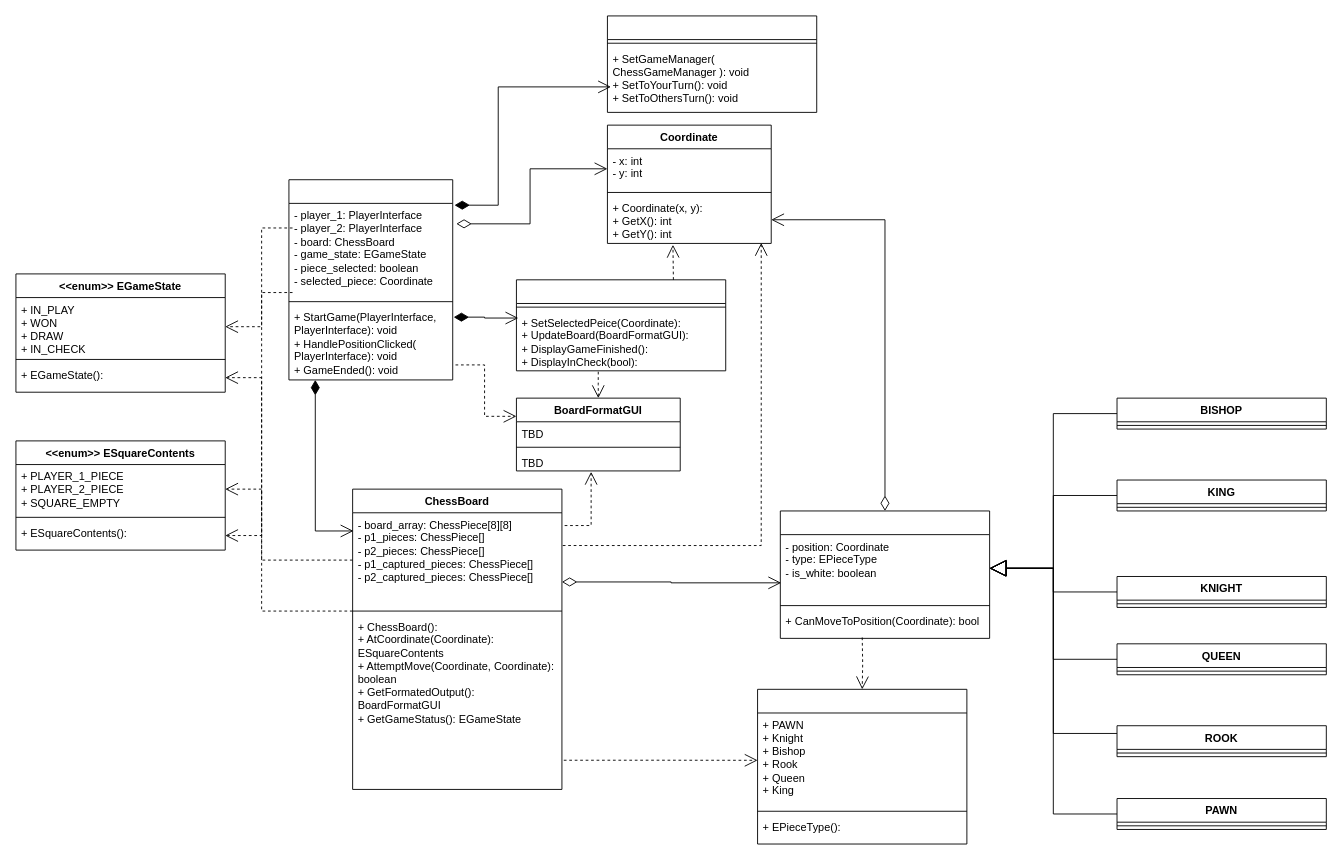
Image size: 1342x863. Some labels were removed from this diagram. Here are the shapes that lost their labels. From the top down, the box of each, then its label:
(607, 15, 817, 112): <<Interface>> PlayerInterface
(288, 179, 453, 380): ChessGameManager
(516, 279, 726, 371): <<Interface>> GUIInterface
(779, 510, 990, 638): <<abstract>> ChessPiece
(757, 688, 967, 844): <<enum>> EPieceType
